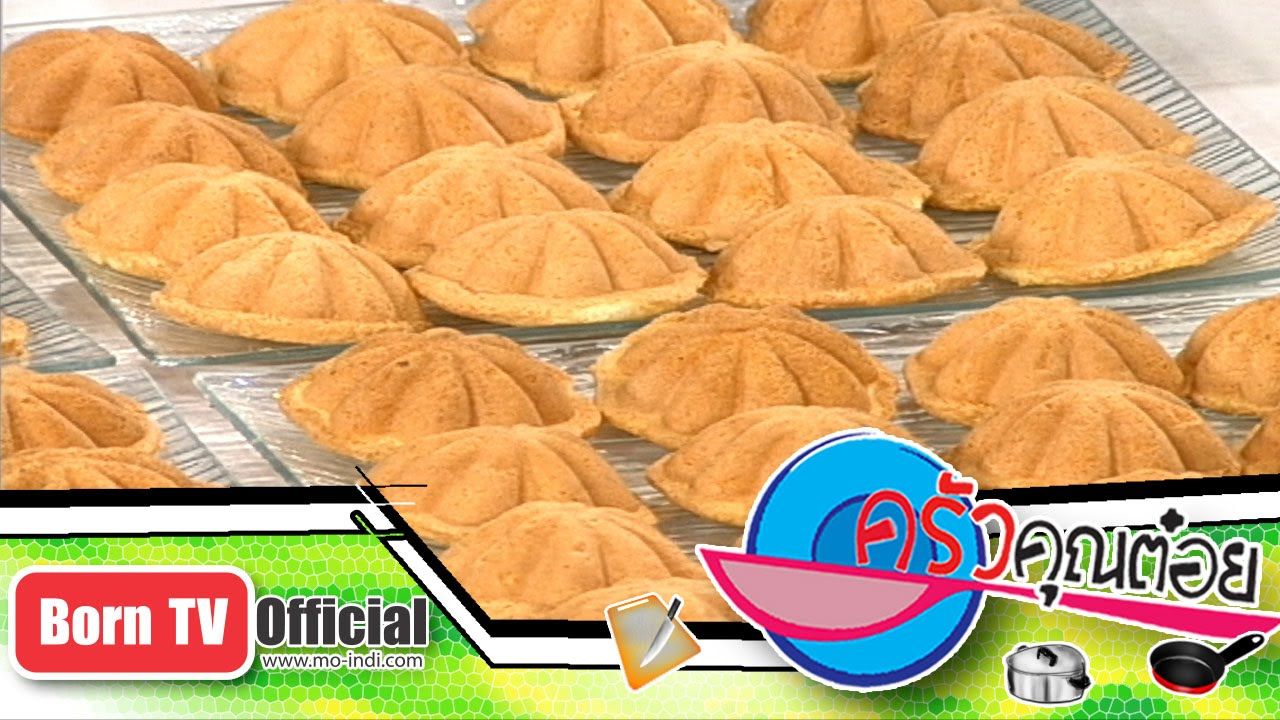kanomkai: (584, 281, 915, 467), (271, 298, 623, 472), (275, 23, 591, 213), (980, 128, 1280, 296), (401, 189, 713, 332), (152, 229, 431, 361)
